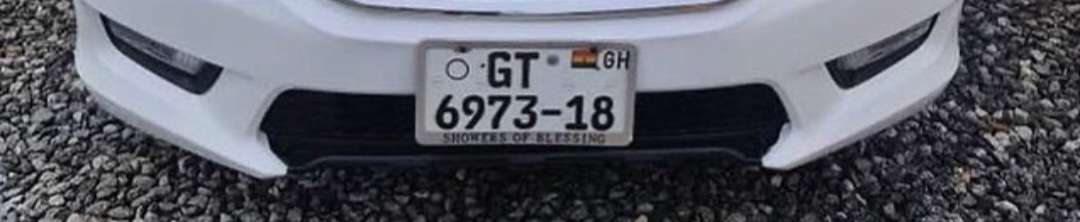number_ plates: (415, 37, 639, 151)
